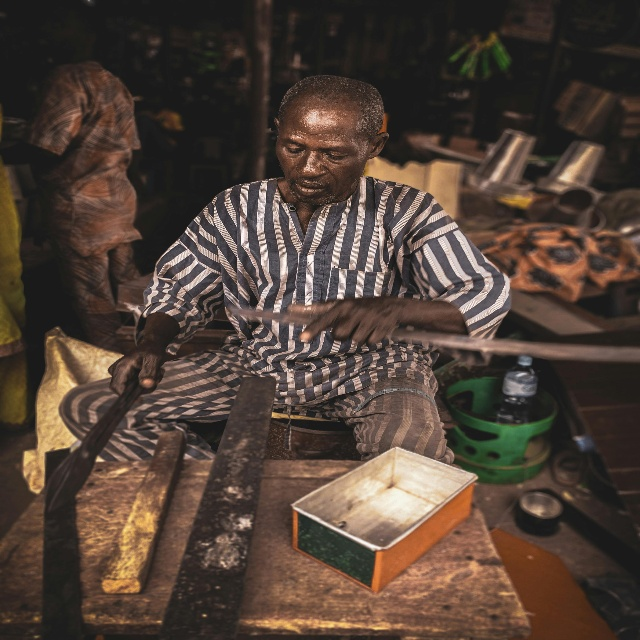Sin_guantes: (287, 294, 399, 346), (107, 340, 167, 397)
